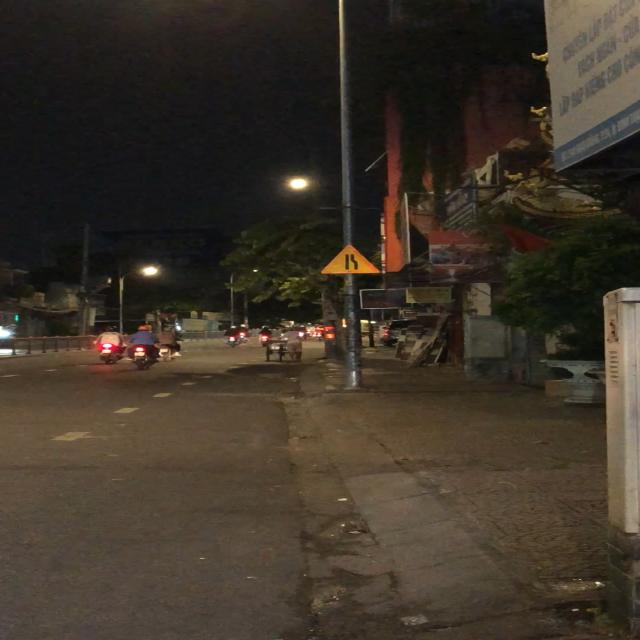Bien bao duong bi thu hep: (318, 245, 384, 275)
